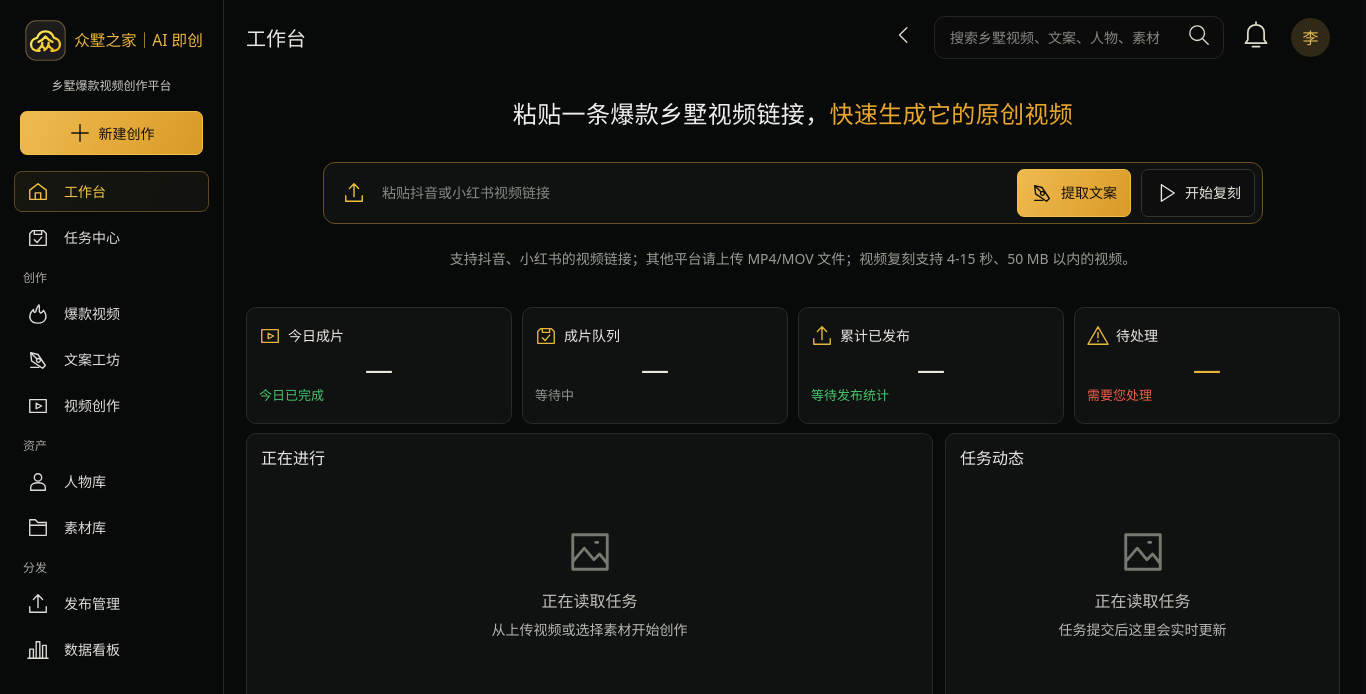
Test case: V1.4 workspace integration › C7 云端草稿 › LEFTOVER-ON-OPEN 恢复闸门 › 超过 7 天的旧草稿不再打扰，也不擅自删除用户内容
This screenshot has width=1366, height=694.
Click the button "文案工坊".
click(112, 360)  # box top-left (14, 339), bottom-right (209, 380)
(page scrolled)
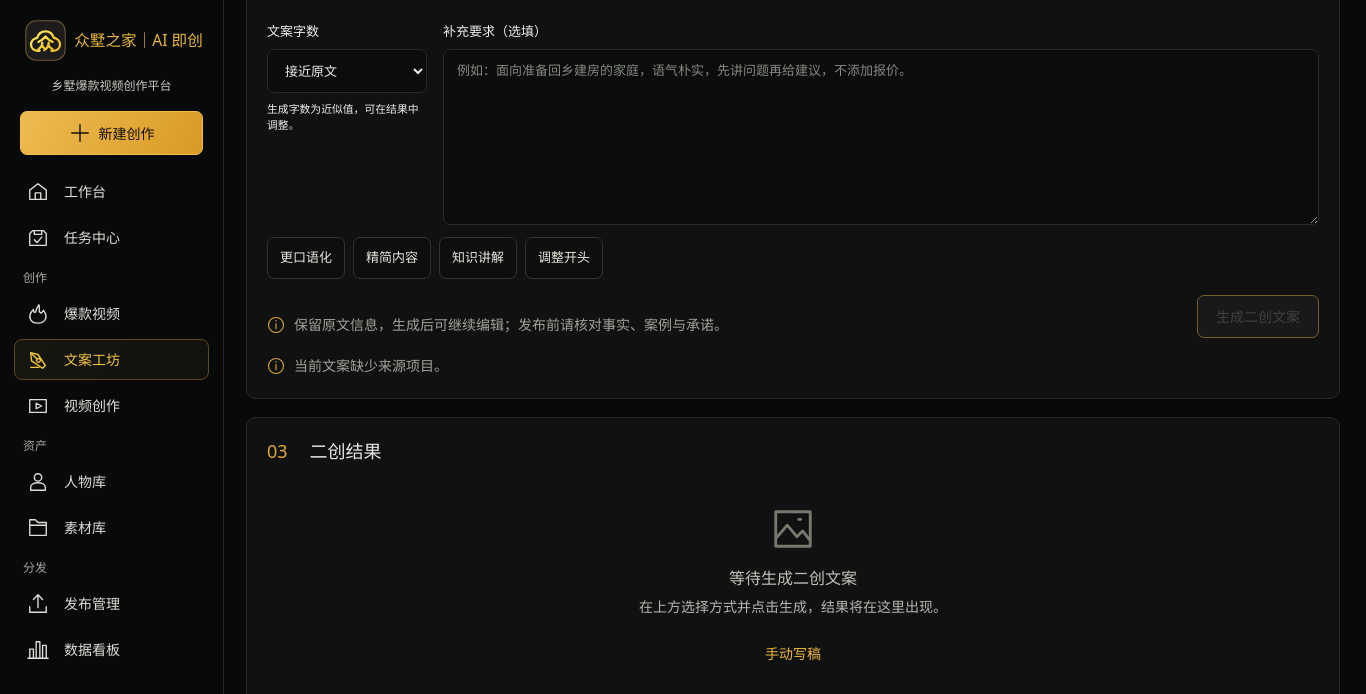
Click the button "手动写稿".
click(793, 654)  # box top-left (756, 633), bottom-right (830, 675)
(page scrolled)
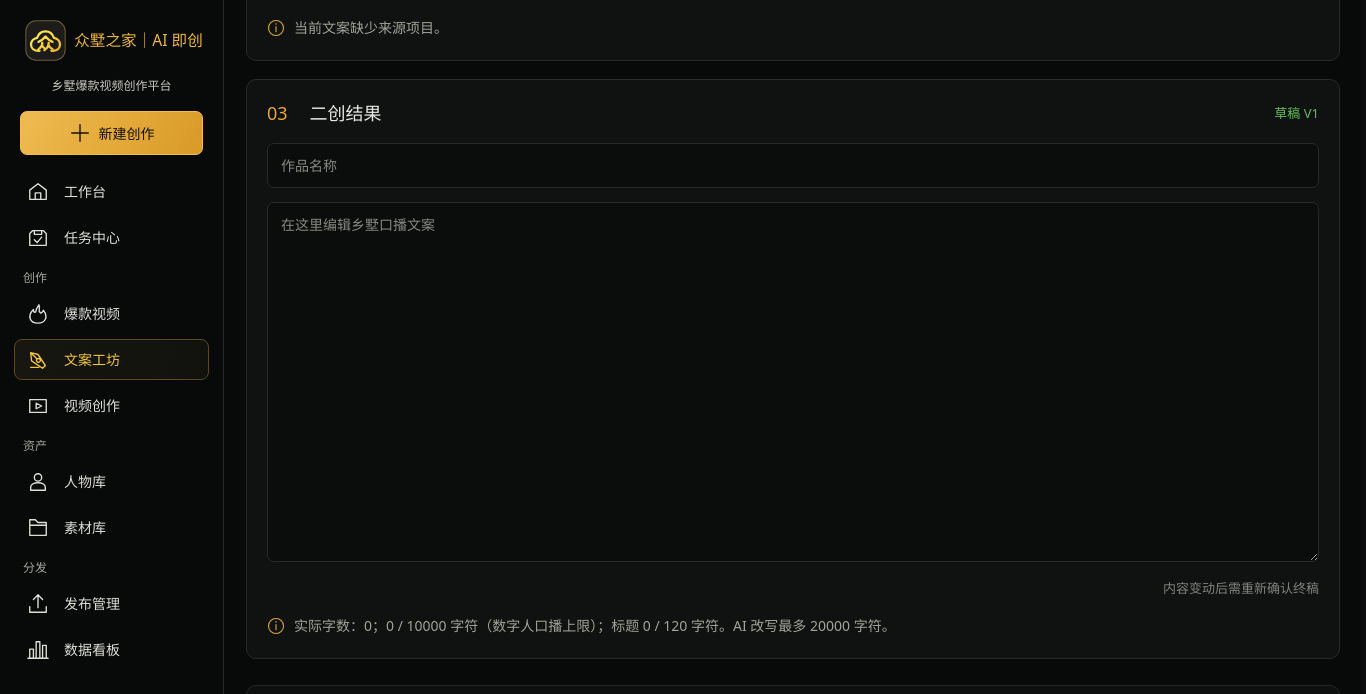
Now the text box named "二创文案" is shown, box top-left (267, 202), bottom-right (1319, 562)
